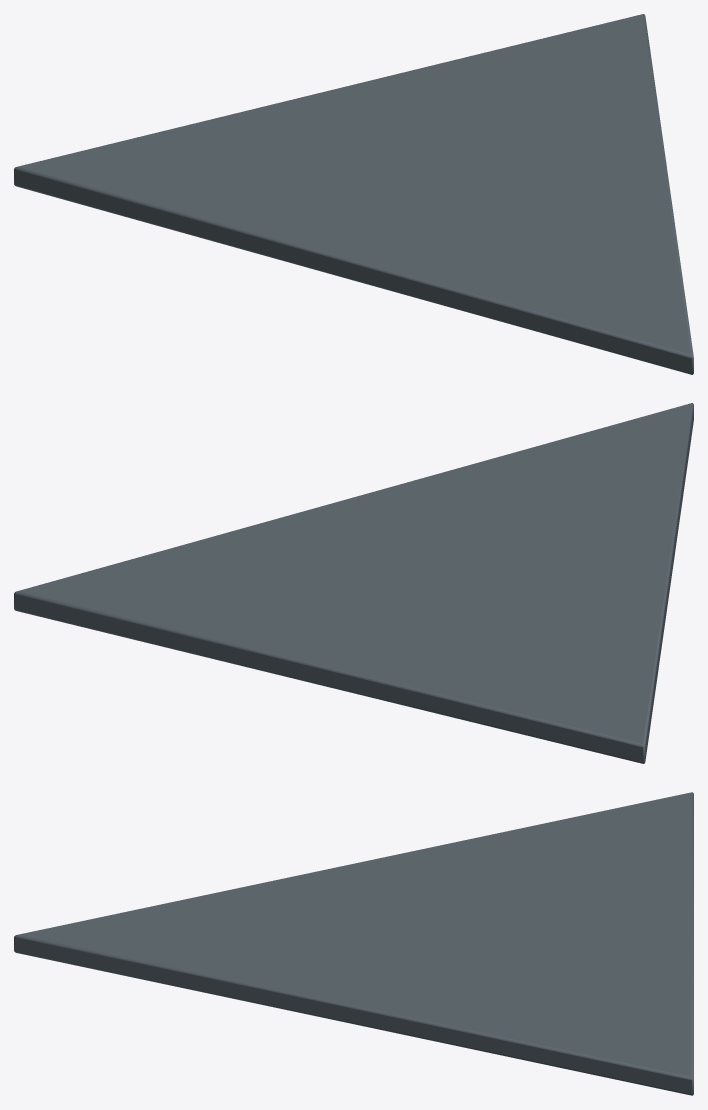
3 renders of one model, top to bottom at view 1: azimuth 30°, elevation 25°; view 2: azimuth 150°, elevation 25°; view 3: azimuth 270°, elevation 25°, orthographic. The views are drawn at different scales.
Parts seen in each view (by area): view 1: Cube.003; view 2: Cube.003; view 3: Cube.003.
Boxes of the visible parts, x1,y1,x2,y2 form: Cube.003: (14, 14, 693, 374); Cube.003: (14, 403, 693, 763); Cube.003: (14, 792, 693, 1095).
Size of the model in its own units: 2.77 by 0.0832 by 2.77.
1 material, 1 textured.
